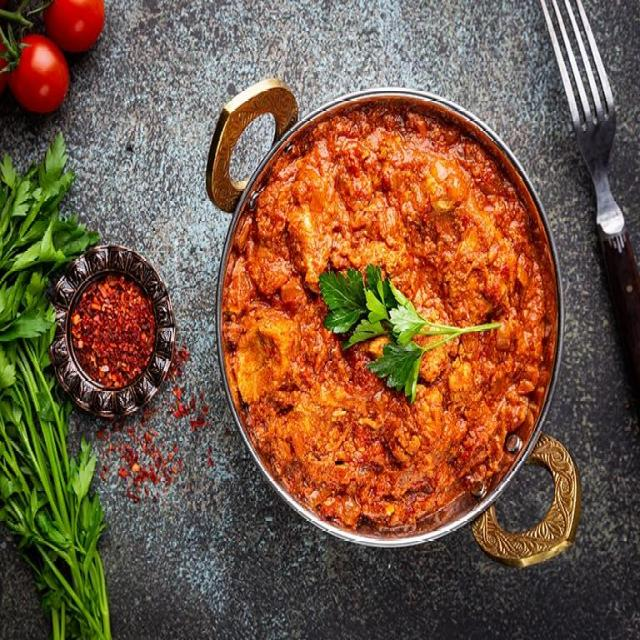chicken: (240, 155, 570, 531)
